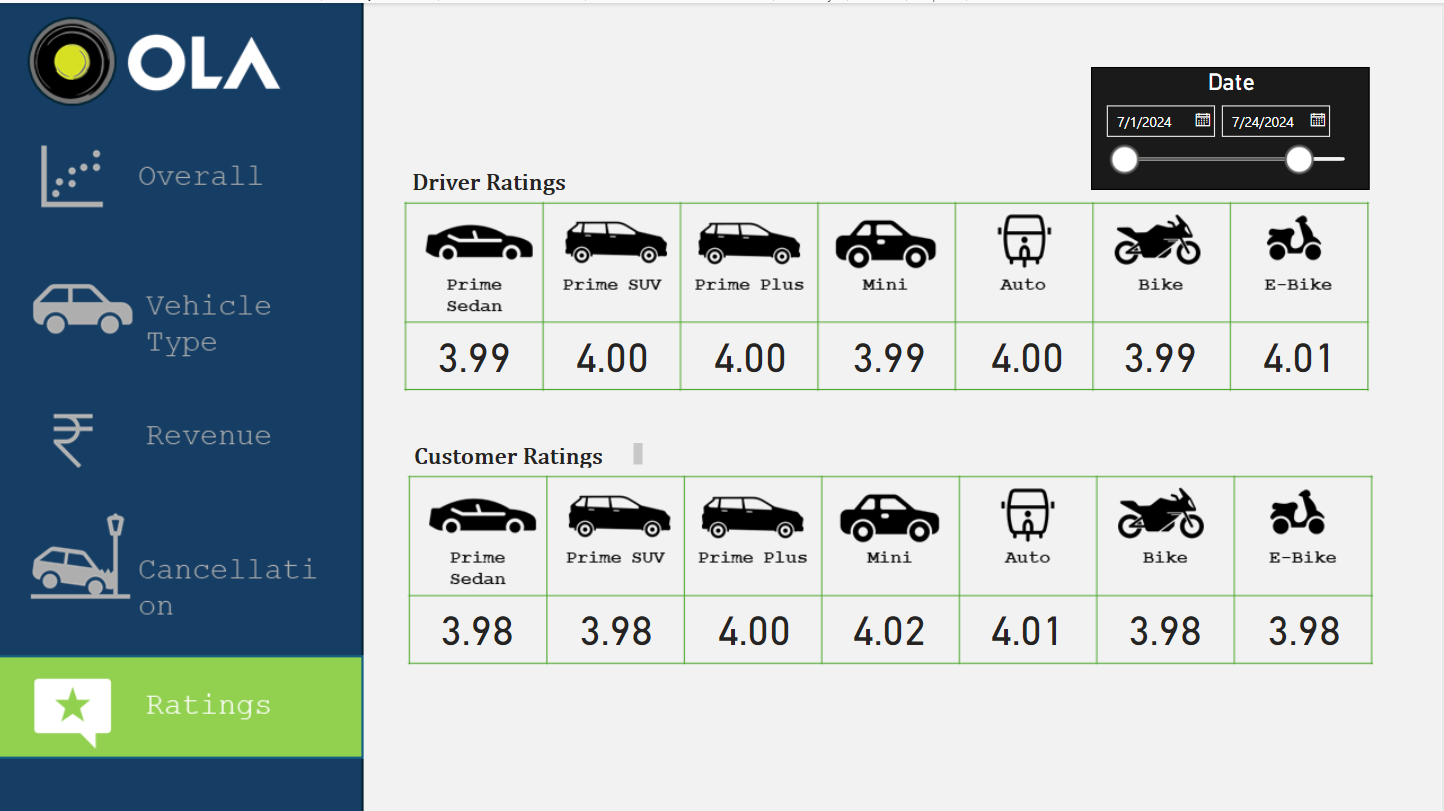

What the dashboard file says about the page in this screenshot:
{"tool":"powerbi","page":{"name":"RATINGS","canvas":[1280,720],"ordinal":5},"visuals":[{"type":"actionButton","box":[0,231.4,325.4,90.4],"z":0},{"type":"actionButton","box":[0,336.1,325.4,91.3],"z":1000},{"type":"actionButton","box":[0,442.5,325.4,112.6],"z":2000},{"type":"actionButton","box":[0,580.8,325.4,87.8],"z":3000},{"type":"actionButton","box":[0,110.8,325.4,93.1],"z":4000},{"type":"card","fields":{"Values":["Avg(Bookings.Driver_Ratings)"]},"box":[361.2,283.5,122.6,59.9],"z":5000},{"type":"card","fields":{"Values":["Avg(Bookings.Driver_Ratings)"]},"box":[483.2,283.7,122.7,59.7],"z":6000},{"type":"card","fields":{"Values":["Avg(Bookings.Driver_Ratings)"]},"box":[605.9,283.7,122.7,59.7],"z":7000},{"type":"card","fields":{"Values":["Avg(Bookings.Driver_Ratings)"]},"box":[728.5,283.7,122.7,59.7],"z":8000},{"type":"card","fields":{"Values":["Avg(Bookings.Driver_Ratings)"]},"box":[851.2,283.7,122.7,59.7],"z":9000},{"type":"card","fields":{"Values":["Avg(Bookings.Driver_Ratings)"]},"box":[969.6,283.7,122.7,59.7],"z":10000},{"type":"card","fields":{"Values":["Avg(Bookings.Driver_Ratings)"]},"box":[1092.3,283.7,122.7,59.7],"z":11000},{"type":"card","fields":{"Values":["Avg(Bookings.Customer_Rating)"]},"box":[363.7,525.9,122.7,59.7],"z":12000},{"type":"card","fields":{"Values":["Avg(Bookings.Customer_Rating)"]},"box":[486.4,525.9,122.7,59.7],"z":13000},{"type":"card","fields":{"Values":["Avg(Bookings.Customer_Rating)"]},"box":[609.1,525.9,122.7,59.7],"z":14000},{"type":"card","fields":{"Values":["Avg(Bookings.Customer_Rating)"]},"box":[728.5,525.9,122.7,59.7],"z":15000},{"type":"card","fields":{"Values":["Avg(Bookings.Customer_Rating)"]},"box":[851.2,525.9,122.7,59.7],"z":16000},{"type":"card","fields":{"Values":["Avg(Bookings.Customer_Rating)"]},"box":[973.9,525.9,122.7,59.7],"z":17000},{"type":"card","fields":{"Values":["Avg(Bookings.Customer_Rating)"]},"box":[1096.5,525.9,122.7,59.7],"z":18000},{"type":"textbox","box":[361.8,147.2,243.8,32.8],"z":19000},{"type":"textbox","box":[363.5,390.1,212.8,27.5],"z":20000},{"type":"slicer","title":"Date","fields":{"Values":["Bookings.Date"]},"box":[968.7,56.5,246.7,109.4],"z":21000}]}

Visuals, with their boxes on the page's 1280x720 design canvas (x1, y1, x2, y2). These are canvas units, not pixel positions in the 1444x811 screenshot, which may show the page scaled, cropped or inside an application window:
actionButton: [0, 231, 325, 322]
actionButton: [0, 336, 325, 427]
actionButton: [0, 442, 325, 555]
actionButton: [0, 581, 325, 669]
actionButton: [0, 111, 325, 204]
card - Avg(Bookings.Driver_Ratings): [361, 284, 484, 343]
card - Avg(Bookings.Driver_Ratings): [483, 284, 606, 343]
card - Avg(Bookings.Driver_Ratings): [606, 284, 729, 343]
card - Avg(Bookings.Driver_Ratings): [728, 284, 851, 343]
card - Avg(Bookings.Driver_Ratings): [851, 284, 974, 343]
card - Avg(Bookings.Driver_Ratings): [970, 284, 1092, 343]
card - Avg(Bookings.Driver_Ratings): [1092, 284, 1215, 343]
card - Avg(Bookings.Customer_Rating): [364, 526, 486, 586]
card - Avg(Bookings.Customer_Rating): [486, 526, 609, 586]
card - Avg(Bookings.Customer_Rating): [609, 526, 732, 586]
card - Avg(Bookings.Customer_Rating): [728, 526, 851, 586]
card - Avg(Bookings.Customer_Rating): [851, 526, 974, 586]
card - Avg(Bookings.Customer_Rating): [974, 526, 1097, 586]
card - Avg(Bookings.Customer_Rating): [1096, 526, 1219, 586]
textbox: [362, 147, 606, 180]
textbox: [364, 390, 576, 418]
"Date" slicer: [969, 56, 1215, 166]
